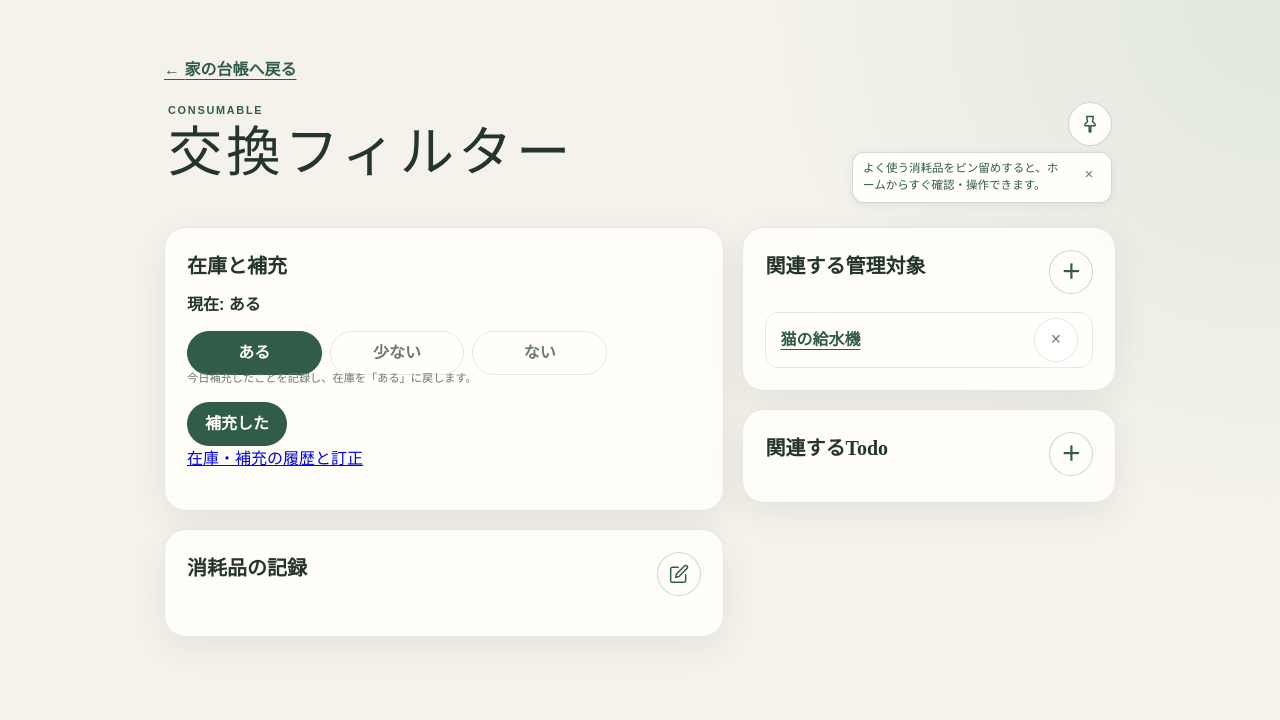
Test: 消耗品詳細の関連編集 (Issue #311) › 保存に失敗したら一覧を変えずに理由を伝える
This screenshot has width=1280, height=720.
Click the button named "猫の給水機を関連から外す".
click(1056, 340)  # box [1034,318,1078,362]
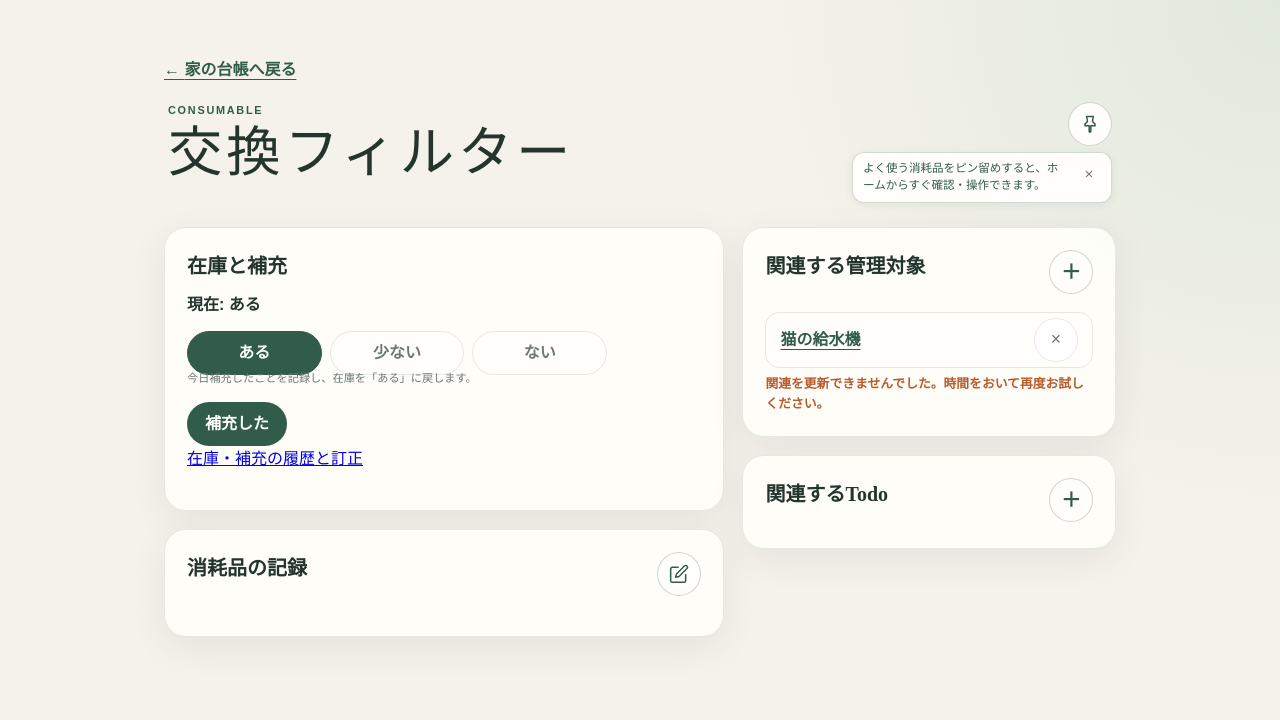
expect the link "猫の給水機" is shown: met, box [780,331,860,348]
expect the message reads "関連を更新できませんでした。時間をおいて再度お試しください。": met, box [765,376,1084,411]
